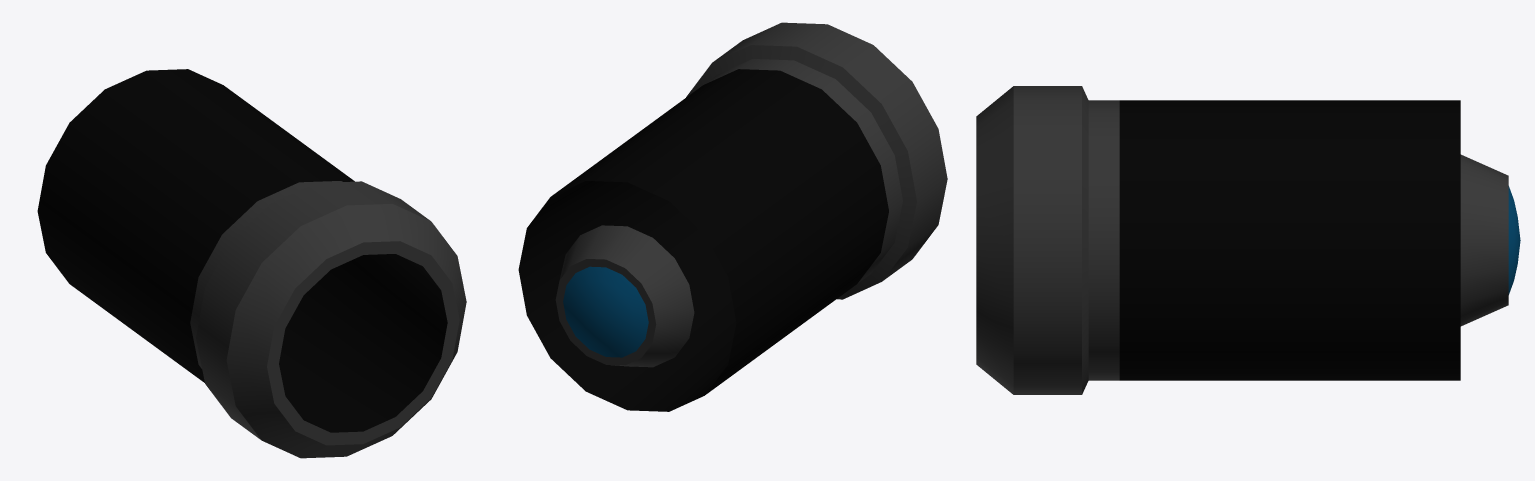
File: TankSight.fbx
3 views of the same model, side by side, from view 1: azimuth 30°, elevation 25°; view 2: azimuth 150°, elevation 25°; view 3: azimuth 270°, elevation 25° (orthographic). The views are drawn at different scales.
Visible parts, largest first — view 1: Cube; view 2: Cube; view 3: Cube.
Part boxes in pixels (x1,y1,x2,y2): Cube: (37,69,466,458); Cube: (518,22,947,411); Cube: (976,86,1520,394).
Size of the model in its own units: 1 by 1 by 1.6.
